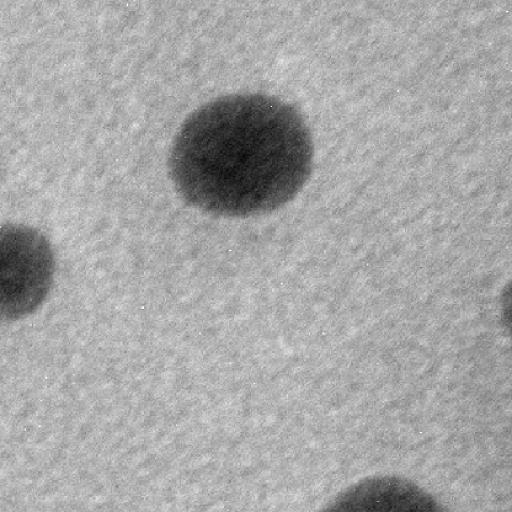Nanoparticles: (167, 89, 314, 220), (0, 220, 57, 324), (323, 470, 438, 512)
